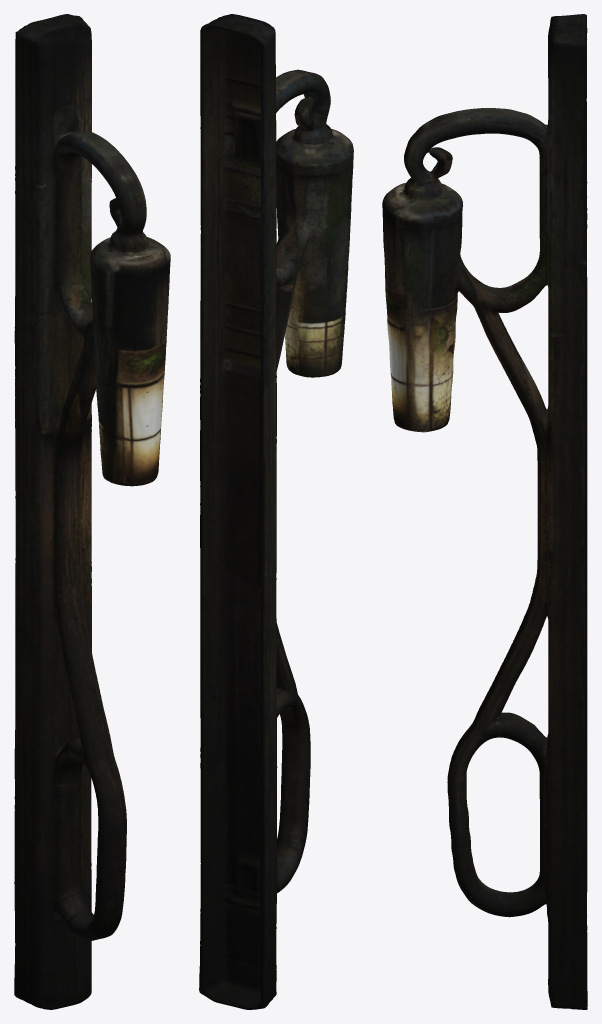
File: Outside_wall_lamp_A_d_0423201017_refine.fbx
The picture shows the model from 3 angles, left to right: view 1: azimuth 30°, elevation 25°; view 2: azimuth 150°, elevation 25°; view 3: azimuth 270°, elevation 25°; orthographic projection.
Visible parts, largest first — view 1: Mesh1; view 2: Mesh1; view 3: Mesh1.
Boxes of the visible parts, left/top/right/bottom form: Mesh1: left=14, top=14, right=170, bottom=1009; Mesh1: left=199, top=14, right=353, bottom=1009; Mesh1: left=382, top=14, right=587, bottom=1009.
Bounding box in the file's own units: 15 × 200 × 38.14.
1 material, 1 textured.
